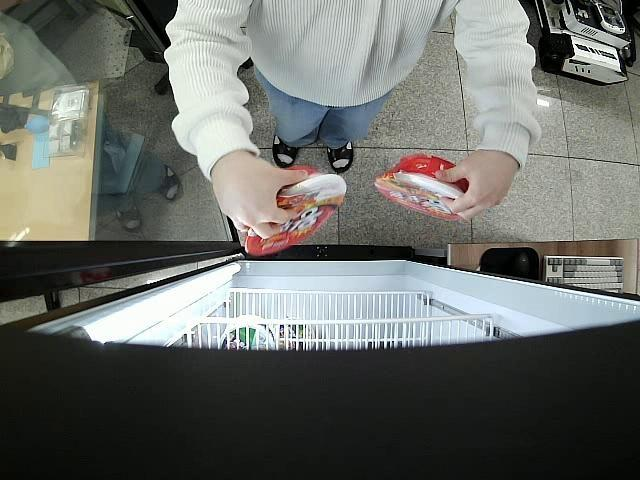10_wangTtukkeong: (237, 166, 346, 255), (374, 154, 469, 221)
